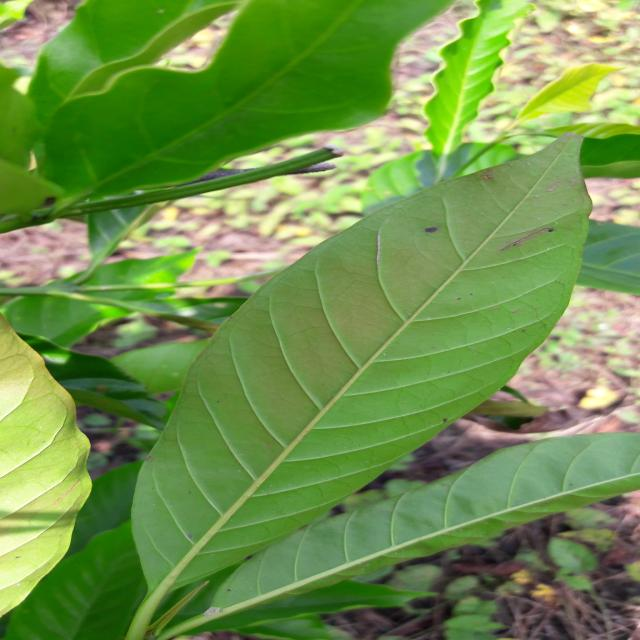Sanas: (127, 135, 593, 640)
